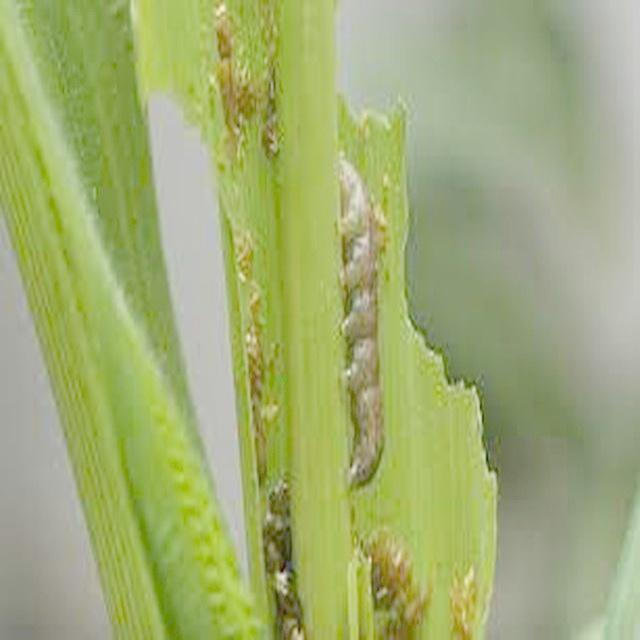gusano_cogollero: (332, 163, 390, 490)
